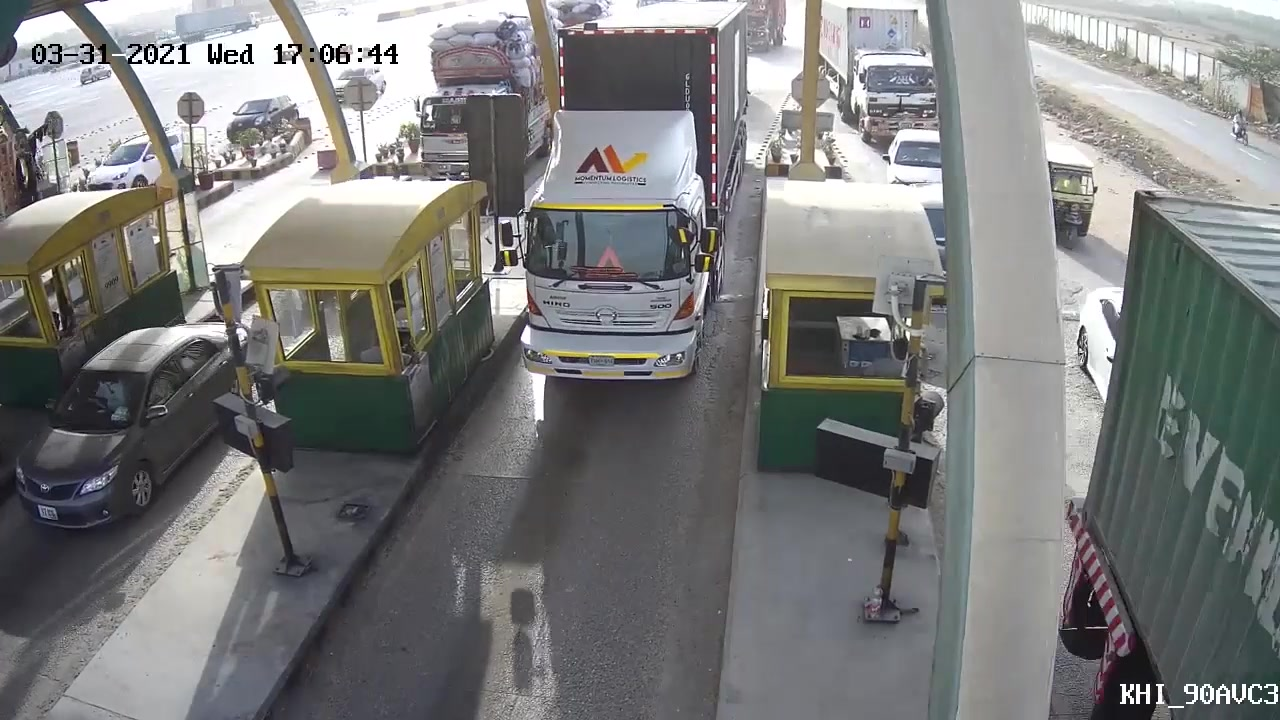F6: (505, 1, 761, 394)
